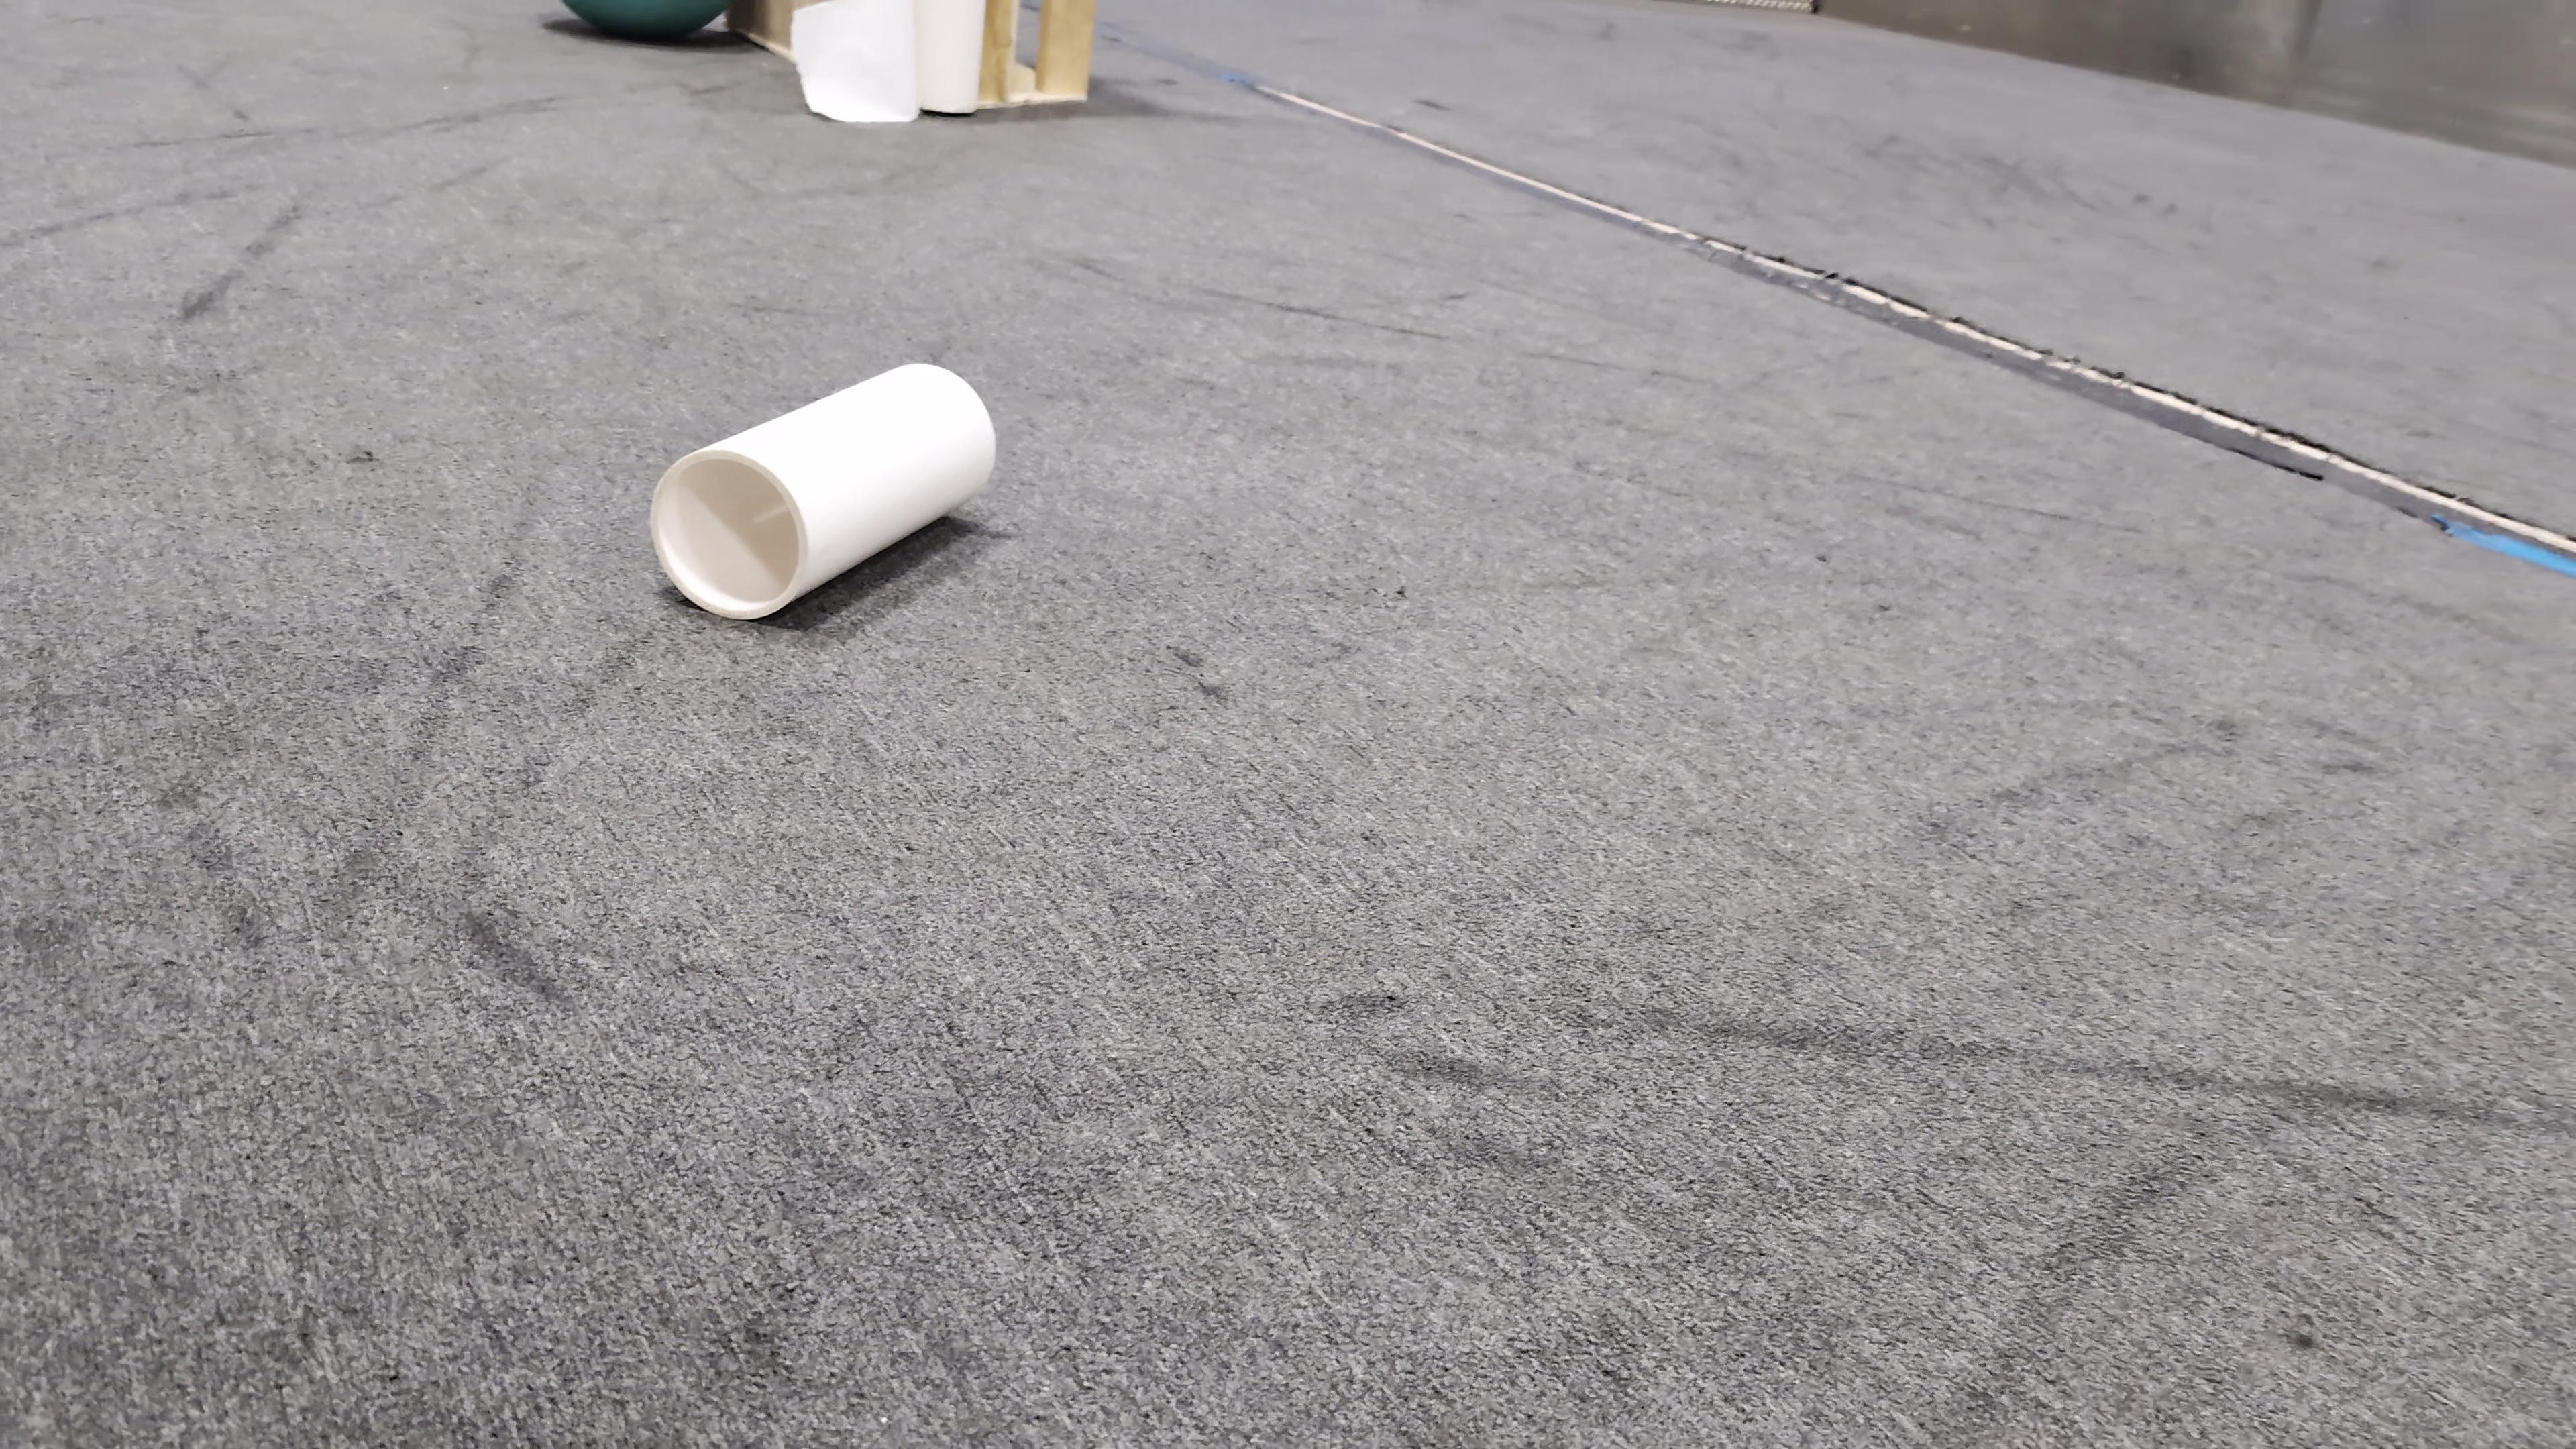coral: (648, 357, 998, 619)
